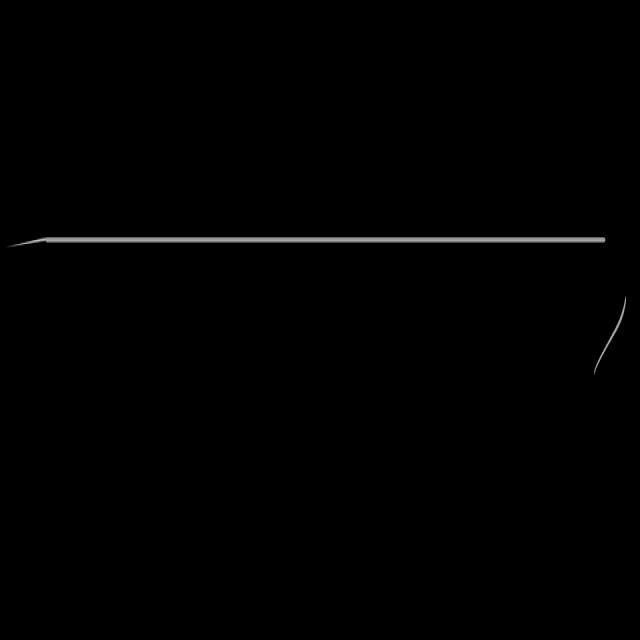Linggis: (5, 187, 640, 422)
